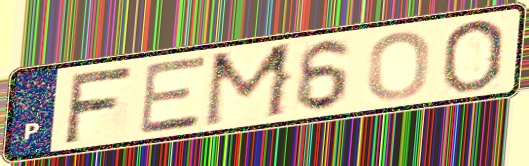6: (294, 36, 354, 115)
E: (138, 53, 209, 137)
F: (61, 63, 136, 146)
M: (199, 39, 299, 131)
O: (438, 16, 508, 95), (365, 29, 434, 103)
